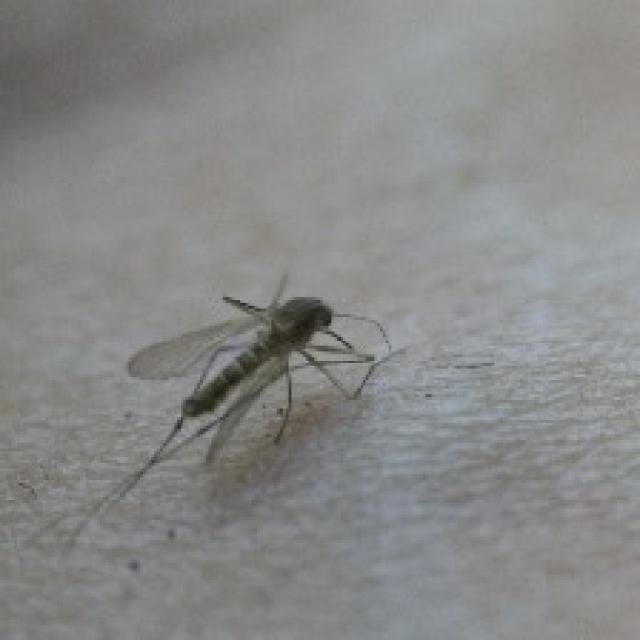culex: (34, 269, 394, 557)
